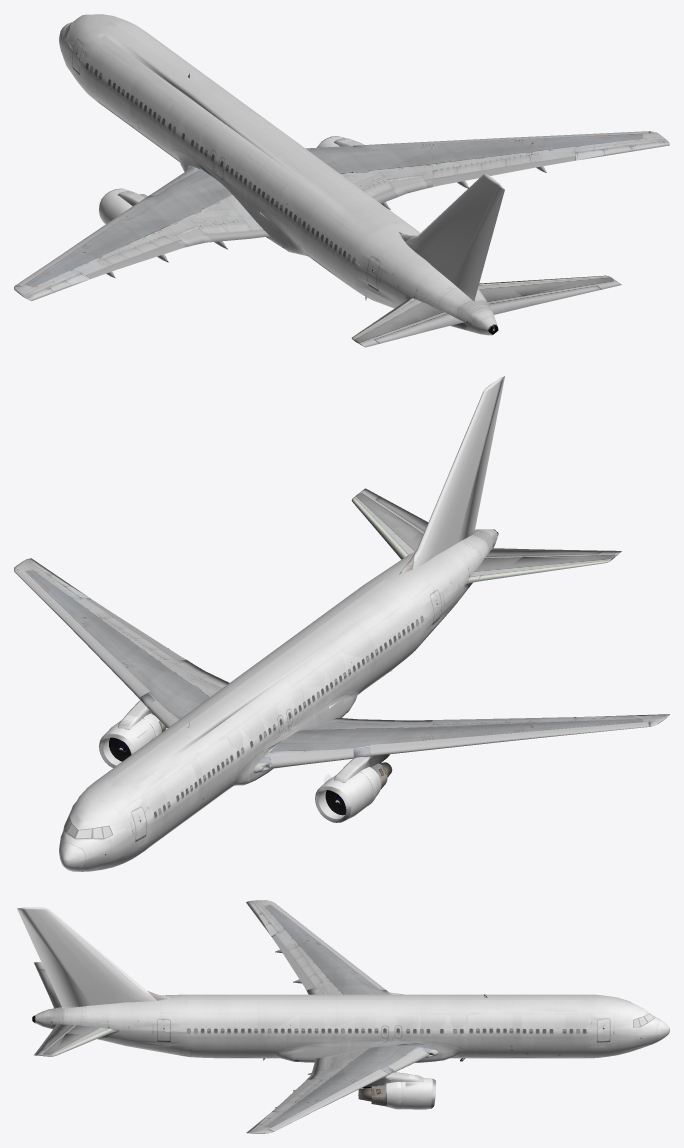
3 renders of one model, top to bottom at view 1: azimuth 30°, elevation 25°; view 2: azimuth 150°, elevation 25°; view 3: azimuth 270°, elevation 25°, orthographic. The views are drawn at different scales.
Parts seen in each view (by area): view 1: Glass_Fuselage_mesh-mesh, RWing_mesh_002-mesh, speedbraker_mesh_001-mesh, RFflapwing1_mesh-mesh, RCapaturbofan_mesh_003-mesh; view 2: Glass_Fuselage_mesh-mesh, RWing_mesh_002-mesh, speedbraker_mesh_001-mesh, RFflapwing1_mesh-mesh, RCapaturbofan_mesh_003-mesh, RfConeTurbofan_mesh-mesh; view 3: Glass_Fuselage_mesh-mesh, RWing_mesh_002-mesh, RCapaturbofan_mesh_003-mesh, speedbraker_mesh_001-mesh, RFflapwing1_mesh-mesh.
Boxes of the visible parts, x1=… form: Glass_Fuselage_mesh-mesh: x1=59, y1=14, x2=504, y2=335; RWing_mesh_002-mesh: x1=14, y1=76, x2=669, y2=300; speedbraker_mesh_001-mesh: x1=197, y1=178, x2=621, y2=347; RFflapwing1_mesh-mesh: x1=15, y1=131, x2=648, y2=285; RCapaturbofan_mesh_003-mesh: x1=99, y1=136, x2=504, y2=297; Glass_Fuselage_mesh-mesh: x1=59, y1=377, x2=504, y2=871; RWing_mesh_002-mesh: x1=14, y1=558, x2=669, y2=782; speedbraker_mesh_001-mesh: x1=109, y1=488, x2=621, y2=815; RFflapwing1_mesh-mesh: x1=15, y1=568, x2=648, y2=768; RCapaturbofan_mesh_003-mesh: x1=99, y1=376, x2=504, y2=822; RfConeTurbofan_mesh-mesh: x1=99, y1=737, x2=345, y2=821; Glass_Fuselage_mesh-mesh: x1=17, y1=907, x2=669, y2=1062; RWing_mesh_002-mesh: x1=246, y1=900, x2=487, y2=1133; RCapaturbofan_mesh_003-mesh: x1=17, y1=907, x2=435, y2=1109; speedbraker_mesh_001-mesh: x1=34, y1=962, x2=337, y2=1069; RFflapwing1_mesh-mesh: x1=269, y1=902, x2=427, y2=1131.
Size of the model in its own units: 46.31 by 15.12 by 55.2.
27 materials, 21 textured.
